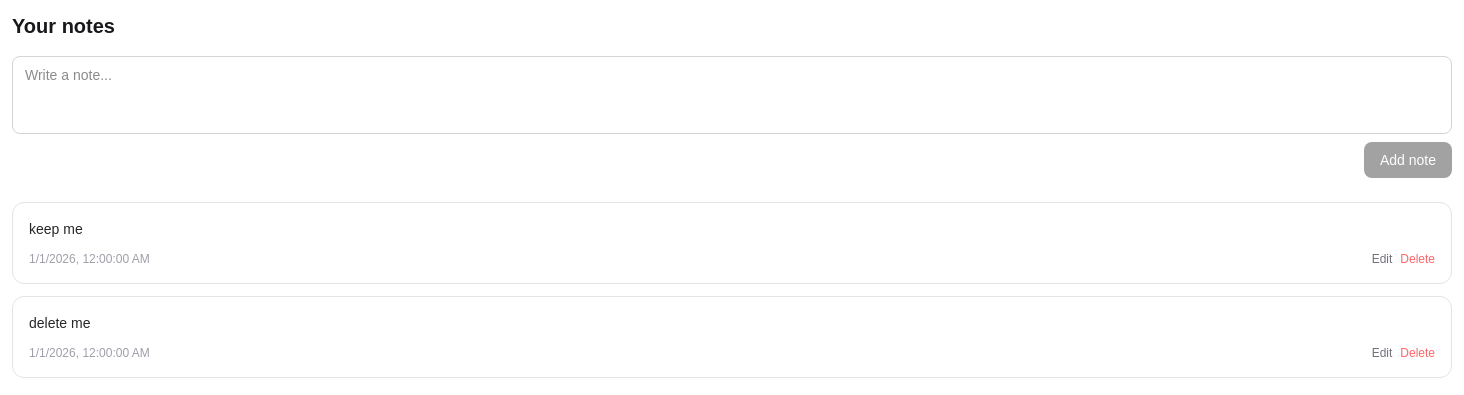
Scenario: Notes › optimistically removes a note on delete
The image size is (1464, 395).
Check: the text "delete me" is shown, box top-left (29, 315), bottom-right (90, 331)
Click the 2nd button "Delete" at (1418, 353), box top-left (1400, 345), bottom-right (1435, 361)
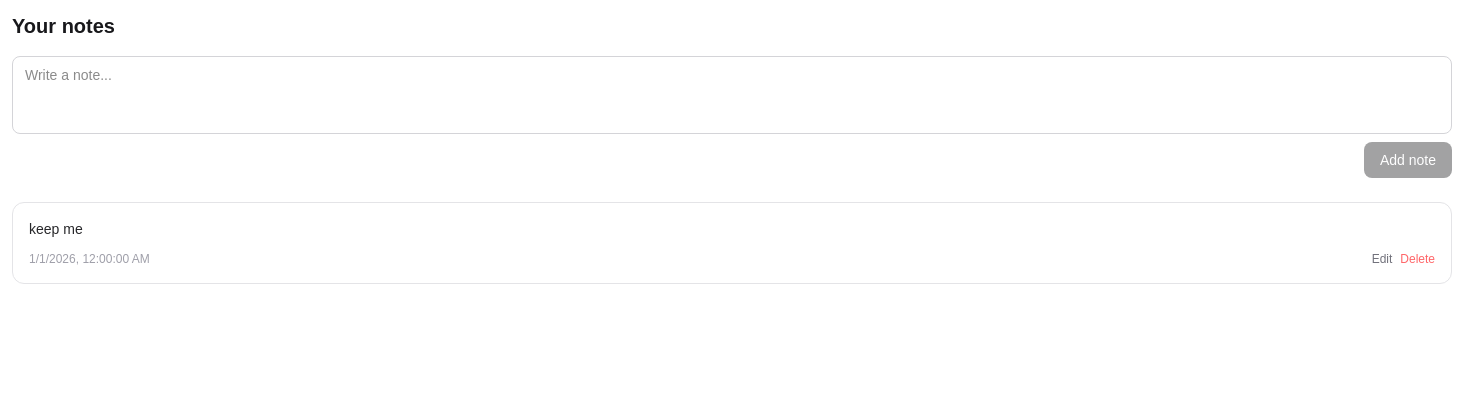
Check: the text "keep me" is shown, box top-left (29, 221), bottom-right (83, 237)
Check: the text "delete me" is gone
